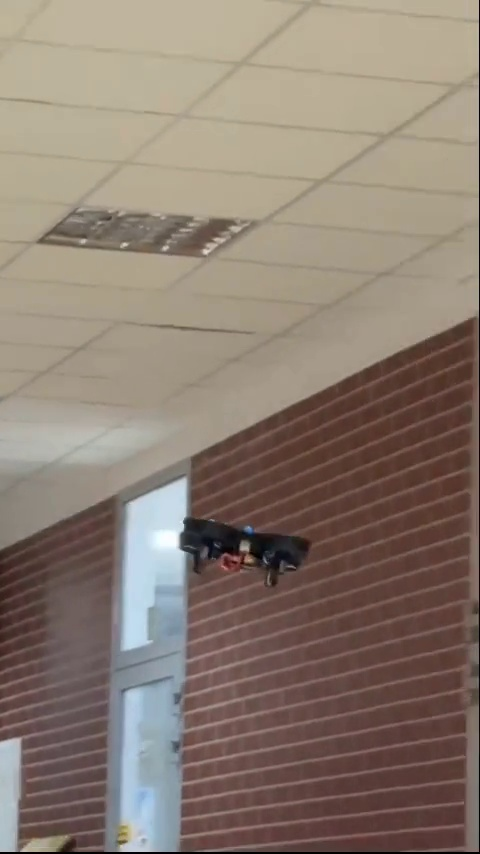drone: (182, 520, 306, 584)
